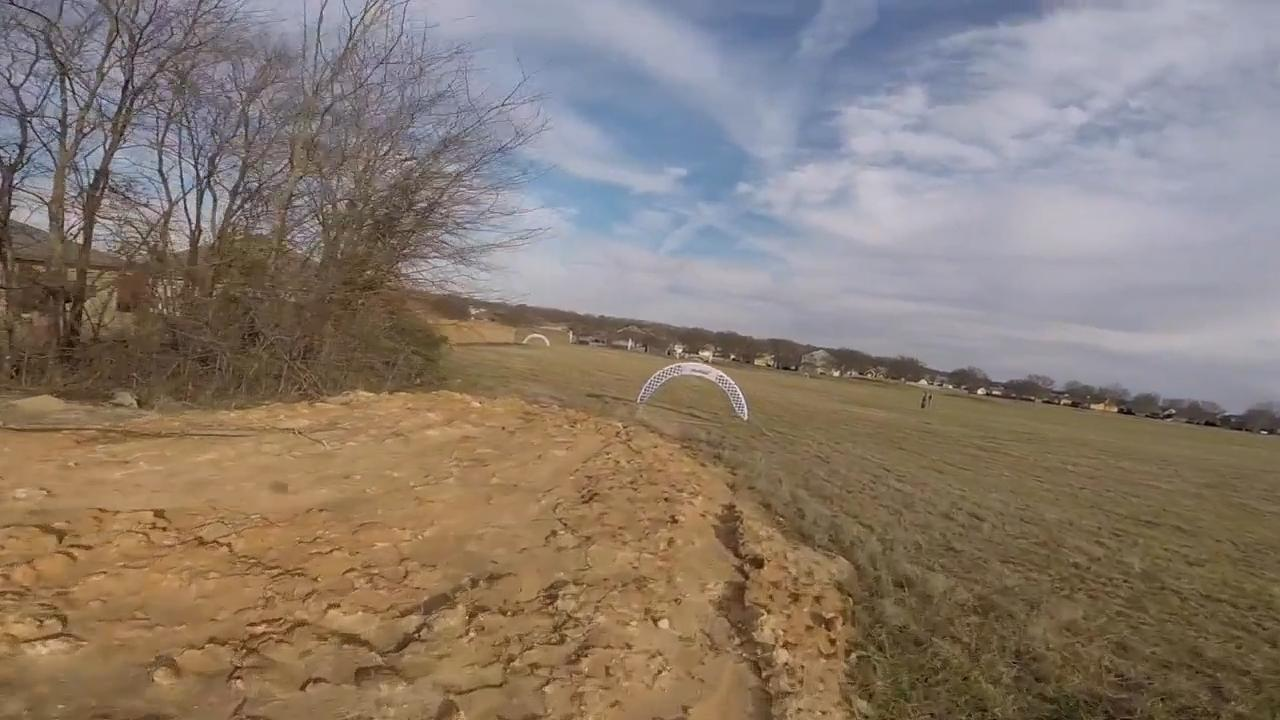gate: (637, 360, 747, 423)
